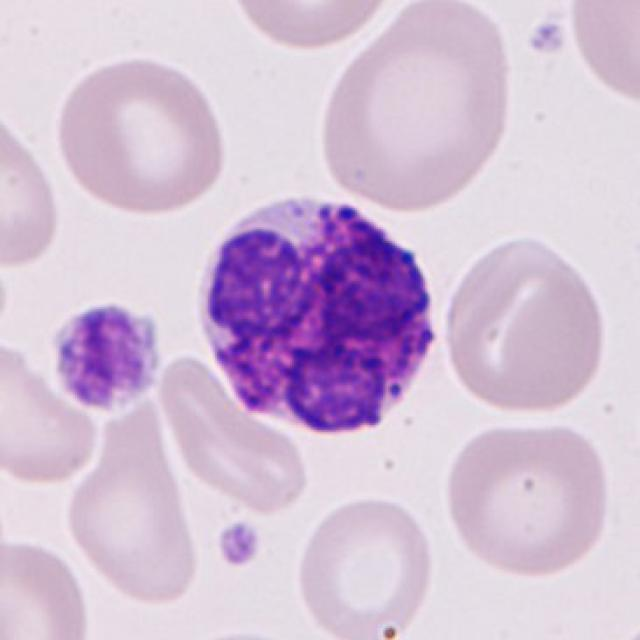Basophil: (185, 178, 453, 448)
Platelets: (45, 296, 168, 414), (214, 518, 262, 570), (523, 12, 570, 61)
RBC: (312, 0, 520, 217), (435, 227, 612, 418), (51, 52, 232, 219), (439, 416, 615, 581), (152, 348, 313, 516), (60, 425, 206, 610), (292, 491, 439, 640), (0, 329, 107, 491), (0, 102, 66, 272), (0, 532, 96, 640), (224, 0, 404, 54), (563, 0, 637, 113), (173, 626, 311, 640)
